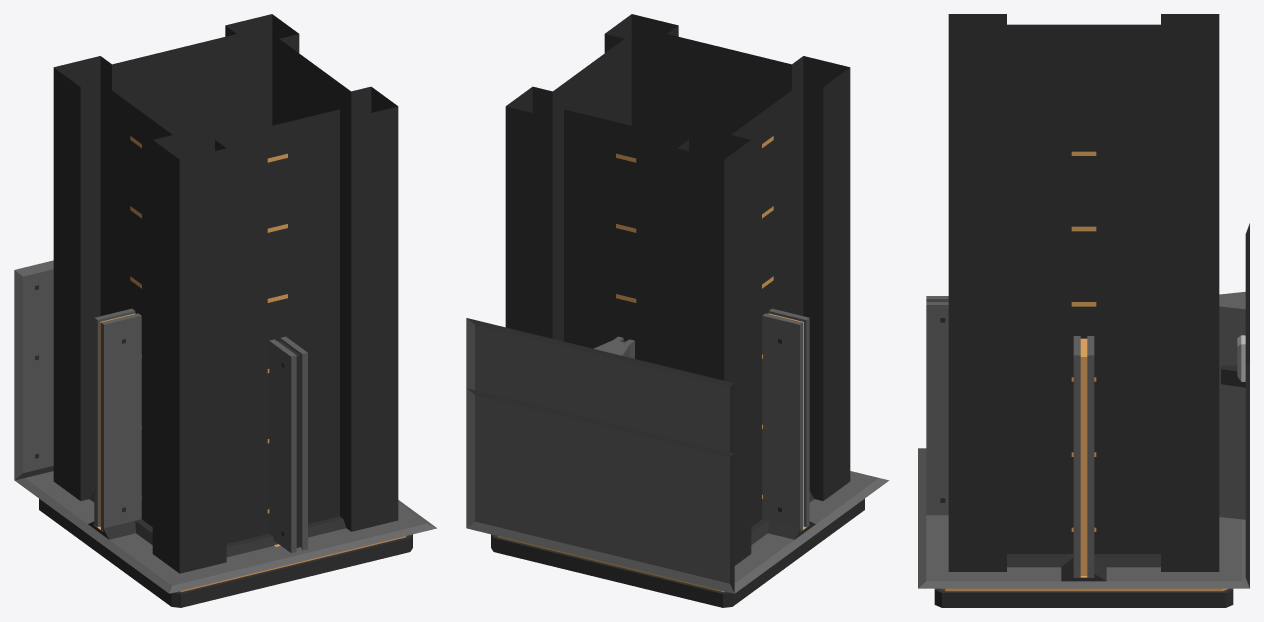
The model's file is Level Assets 1.fbx.
3 renders of one model, left to right at view 1: azimuth 30°, elevation 25°; view 2: azimuth 150°, elevation 25°; view 3: azimuth 270°, elevation 25°, orthographic. The views are drawn at different scales.
Visible parts, largest first — view 1: Pilar 6, Pilar 5, Pilar 4, Porta Dupla, Piso Escuro, Tapume, Pilar 3, Parede, Pilar 2, Flutuador, Parede Curta, Pilar 1 (+1 smaller); view 2: Pilar 6, Parede, Pilar 5, Parede Curta, Pilar 4, Porta Dupla, Pilar 3, Flutuador, Piso Escuro, Pilar 1, Pilar 2; view 3: Pilar 6, Pilar 4, Pilar 3, Pilar 5, Piso Escuro, Pilar 1, Flutuador, Junta, Porta Dupla, Tapume, Encaixador, Parede (+2 smaller).
Boxes of the visible parts, x1,y1,x2,y2 form: Pilar 6: (53,14,398,573); Pilar 5: (53,85,398,573); Pilar 4: (54,210,398,572); Porta Dupla: (94,308,141,530); Piso Escuro: (14,471,436,593); Tapume: (269,336,307,553); Pilar 3: (53,292,397,571); Parede: (14,260,53,478); Pilar 2: (53,351,398,572); Flutuador: (39,498,412,607); Parede Curta: (14,339,53,480); Pilar 1: (54,450,398,571); Pilar 6: (505,14,850,565); Parede: (466,318,734,590); Pilar 5: (505,85,850,564); Parede Curta: (466,388,734,593); Pilar 4: (505,208,850,564); Porta Dupla: (762,308,809,530); Pilar 3: (505,293,849,562); Flutuador: (491,498,864,607); Piso Escuro: (734,471,889,593); Pilar 1: (735,444,849,560); Pilar 2: (735,355,850,562); Pilar 6: (948,14,1219,571); Pilar 4: (948,268,1219,571); Pilar 3: (948,343,1219,571); Pilar 5: (948,89,1219,571); Piso Escuro: (918,448,1249,588); Pilar 1: (949,493,1217,571); Flutuador: (934,588,1233,607); Junta: (1219,291,1245,519); Porta Dupla: (1073,336,1094,577); Tapume: (926,296,948,515); Encaixador: (1007,554,1160,567); Parede: (1245,223,1249,584).
Bounding box in the file's own units: 400 × 630 × 400.
1 material, 1 textured.
